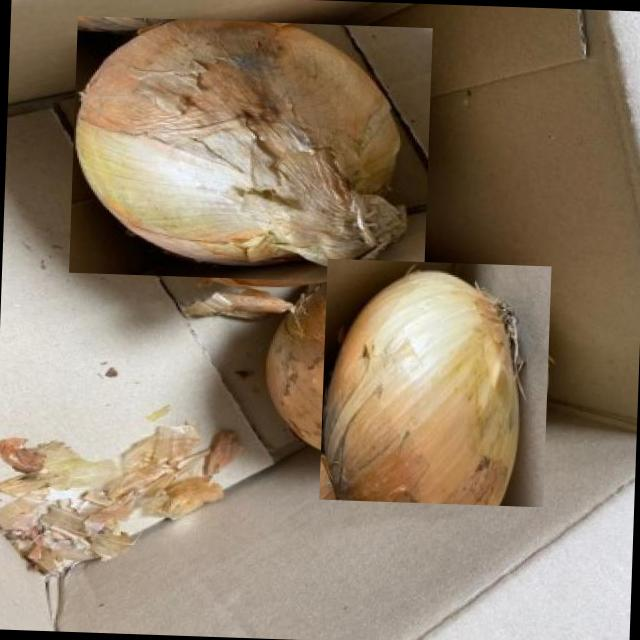Onion: (68, 15, 432, 285), (315, 262, 556, 502)
